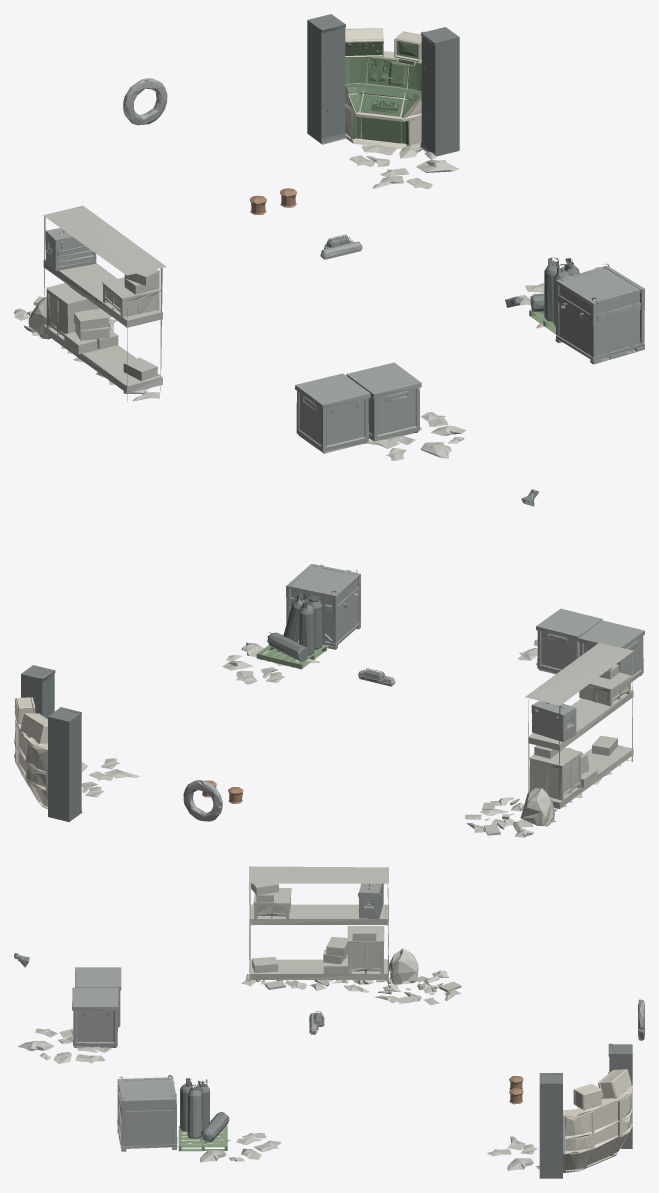
The model's file is underwater_lab_d-map.glb.
The picture shows the model from 3 angles, top to bottom: view 1: azimuth 30°, elevation 25°; view 2: azimuth 150°, elevation 25°; view 3: azimuth 270°, elevation 25°; orthographic projection. The views are drawn at different scales.
Visible parts, largest first — view 1: metal_crate_a, carton_box, gas_canister_pallet_b_LOD0, control_panels_attachement_b; view 2: carton_box, metal_crate_a, gas_canister_pallet_b_LOD0, control_panels_attachement_b; view 3: carton_box, metal_crate_a, gas_canister_pallet_b_LOD0, control_panels_attachement_b.
Part boxes in pixels (left/top/right/bottom): metal_crate_a: left=45, top=78, right=644, bottom=453; carton_box: left=14, top=145, right=544, bottom=460; gas_canister_pallet_b_LOD0: left=307, top=14, right=579, bottom=334; control_panels_attachement_b: left=345, top=28, right=421, bottom=149; carton_box: left=81, top=639, right=633, bottom=837; metal_crate_a: left=183, top=564, right=644, bottom=821; gas_canister_pallet_b_LOD0: left=21, top=489, right=538, bottom=821; control_panels_attachement_b: left=14, top=697, right=47, bottom=808; carton_box: left=17, top=866, right=539, bottom=1170; metal_crate_a: left=72, top=883, right=644, bottom=1151; gas_canister_pallet_b_LOD0: left=14, top=953, right=632, bottom=1178; control_panels_attachement_b: left=563, top=1069, right=632, bottom=1172.
Bounding box in the file's own units: 10.6 × 2.92 × 13.55.
